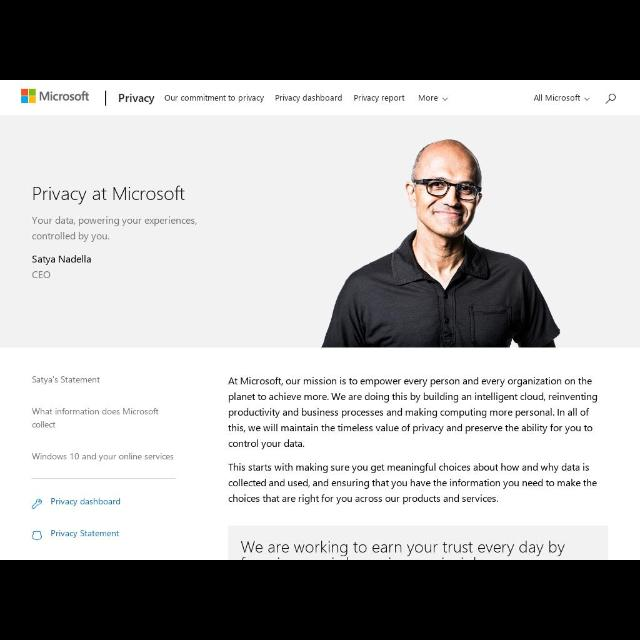icon: (100, 88, 110, 109), (604, 93, 618, 105), (32, 530, 44, 540), (32, 499, 44, 508), (439, 94, 449, 102), (584, 94, 590, 106)
image: (232, 118, 640, 348), (18, 85, 92, 106)
text: (230, 377, 600, 451), (230, 462, 600, 504), (238, 537, 564, 559), (31, 215, 199, 243), (31, 184, 187, 206), (29, 404, 159, 428), (30, 450, 174, 462), (29, 255, 92, 279), (31, 374, 104, 391), (163, 93, 264, 105), (274, 94, 344, 106), (50, 528, 120, 538), (49, 498, 125, 506), (118, 92, 156, 106), (352, 93, 403, 103), (533, 93, 579, 103), (419, 94, 437, 104)
toolbar: (1, 80, 638, 114)
